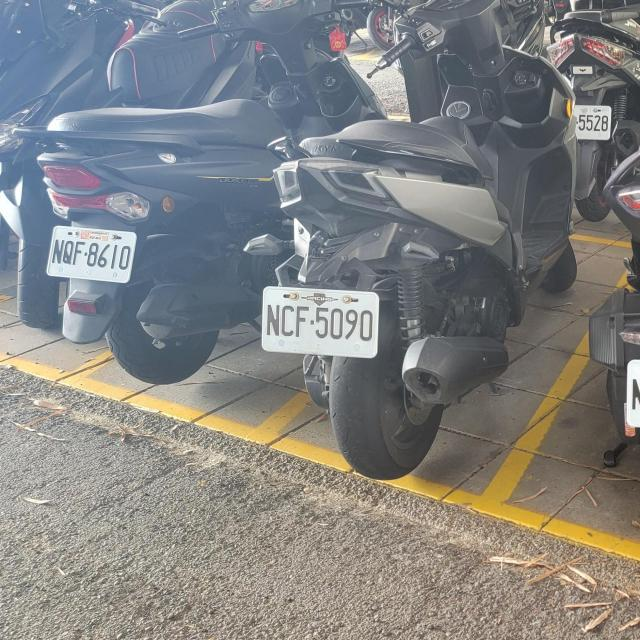W: (261, 286, 378, 358), (47, 224, 136, 283), (575, 103, 614, 142), (623, 357, 640, 433)
